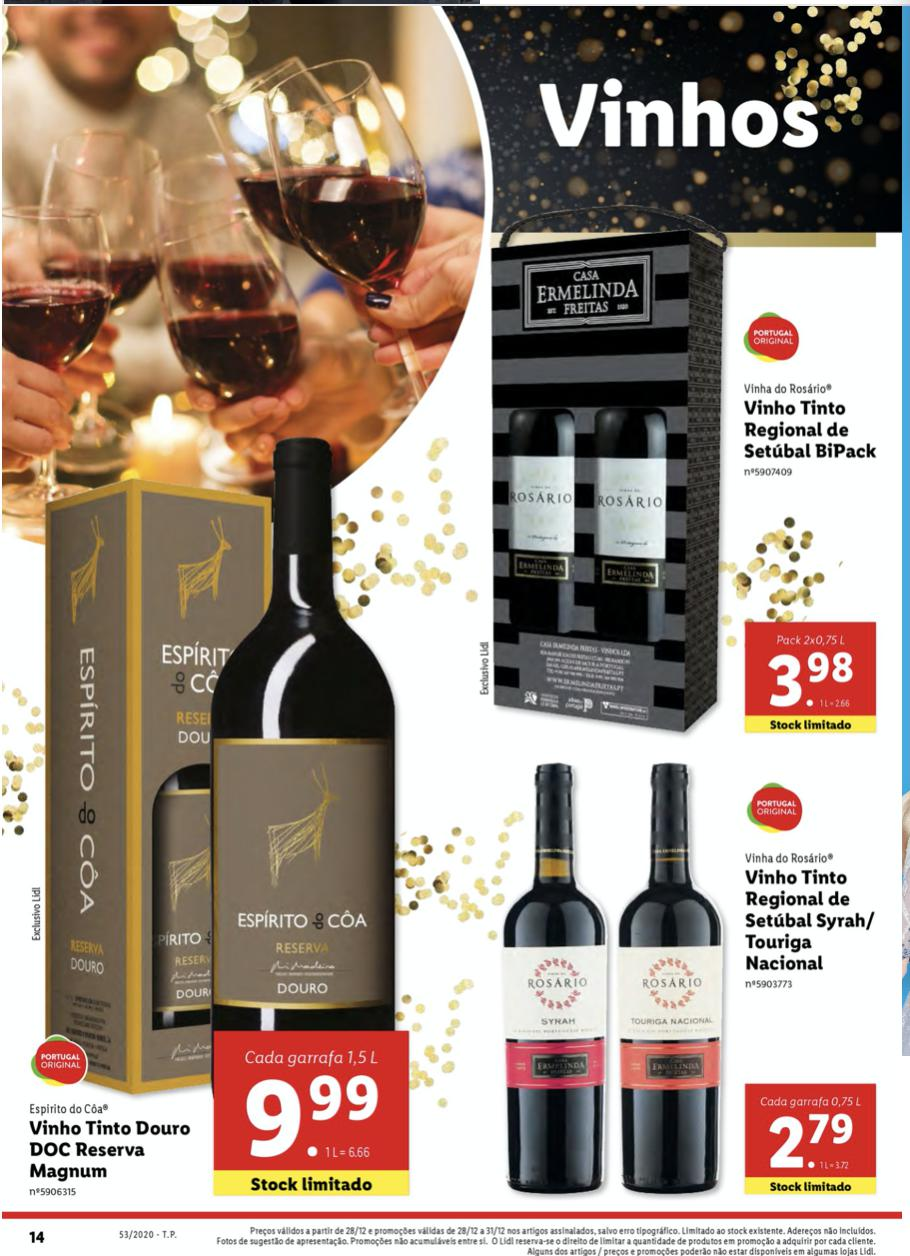name: (739, 868, 878, 975), (25, 1114, 195, 1179), (734, 394, 880, 463)
price: (239, 1072, 383, 1172), (747, 1093, 872, 1179), (769, 649, 873, 719)
product: (14, 430, 444, 1204), (473, 202, 876, 758), (459, 746, 890, 1207)
